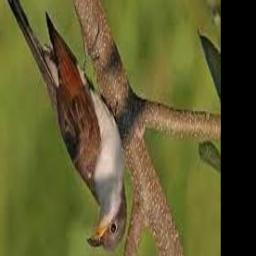Cuckoo: (0, 0, 127, 250)
